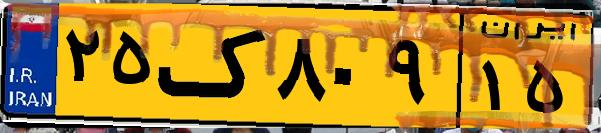0: (330, 28, 385, 110)
1: (475, 38, 525, 113)
2: (57, 26, 110, 100)
5: (525, 38, 570, 115), (110, 28, 158, 98)
8: (270, 28, 330, 110)
9: (385, 28, 445, 110)
ک: (158, 12, 270, 120)
